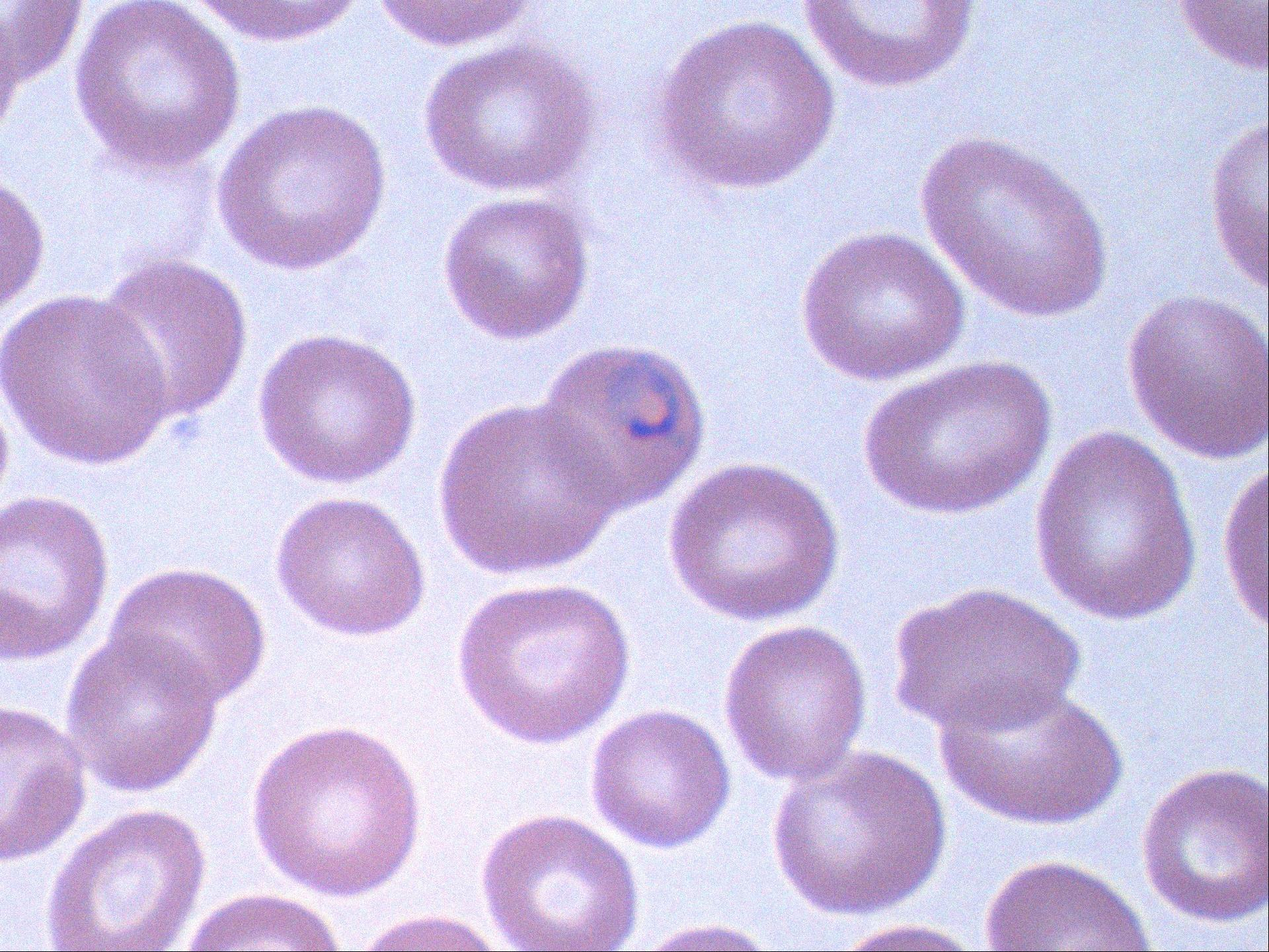Infected: (547, 349, 699, 510)
Uninfected: (922, 142, 1105, 316), (1039, 431, 1193, 616), (775, 747, 941, 913), (443, 405, 611, 568), (0, 296, 160, 465), (668, 25, 834, 185), (253, 729, 413, 894), (866, 362, 1046, 507), (894, 588, 1078, 729), (940, 678, 1118, 823), (463, 587, 626, 744), (73, 0, 235, 157), (218, 111, 381, 265), (671, 466, 835, 618), (426, 47, 590, 189), (805, 235, 962, 375), (51, 809, 204, 952), (1132, 299, 1269, 458), (112, 572, 262, 717), (71, 636, 212, 790), (94, 263, 238, 413), (261, 339, 413, 477), (484, 821, 638, 952), (728, 629, 863, 775), (1143, 773, 1269, 921), (449, 197, 584, 334), (279, 501, 418, 634), (590, 714, 728, 844), (0, 501, 102, 658), (986, 862, 1148, 952), (0, 711, 86, 860)
